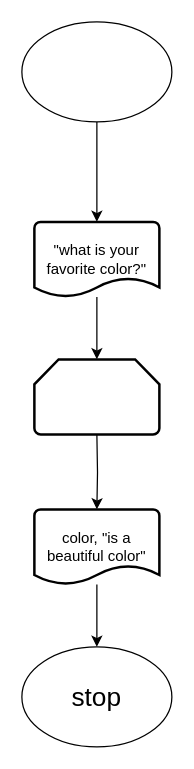
This 194x769 diagram has some shape labels left out. The box of each missing label's shape, as (x1, y1, x2, y2) in pixels:
color: (32, 358, 160, 435)
start: (21, 21, 172, 122)
